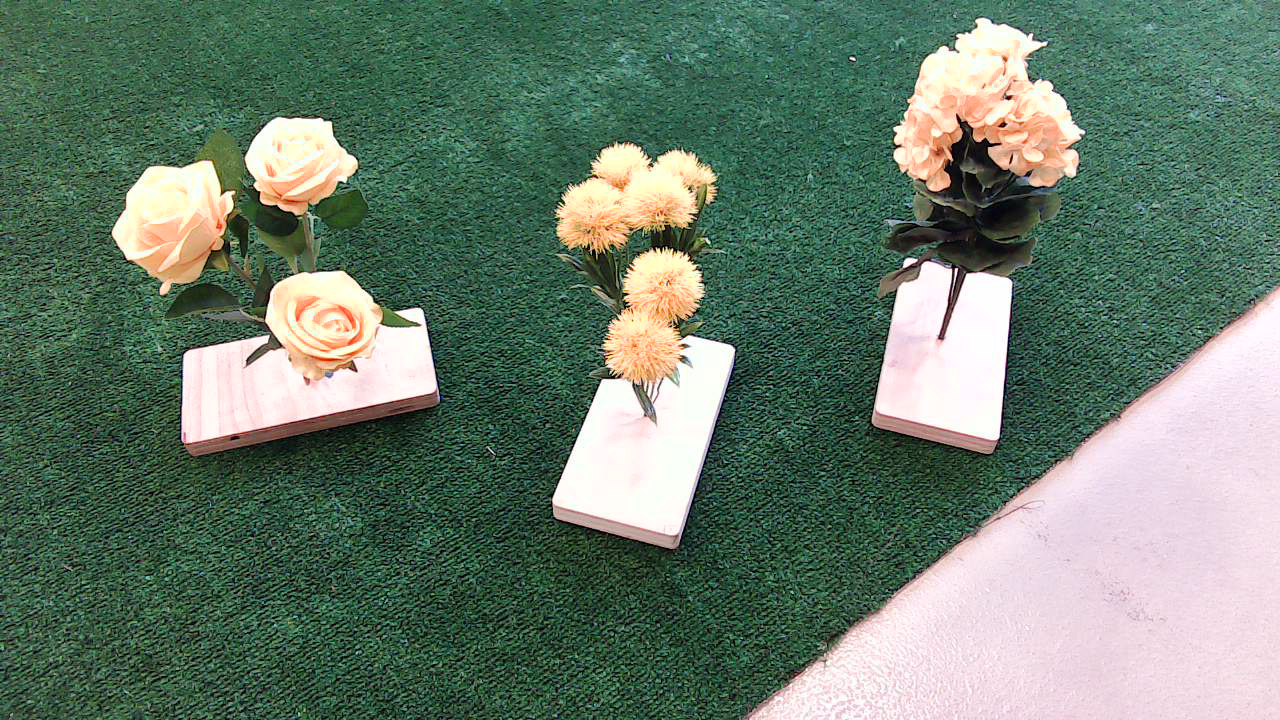dandelion: (552, 137, 740, 438)
geranium: (886, 18, 1092, 350)
rose: (116, 115, 439, 452)
